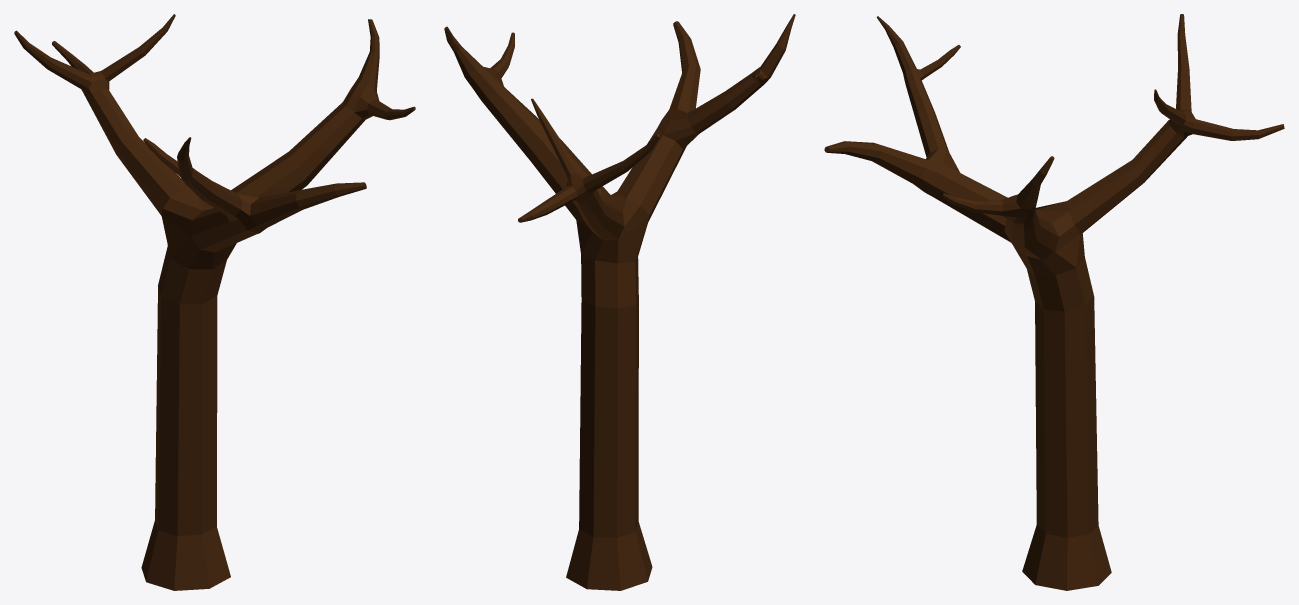
File: Tree02.fbx
The picture shows the model from 3 angles, left to right: view 1: azimuth 30°, elevation 25°; view 2: azimuth 150°, elevation 25°; view 3: azimuth 270°, elevation 25°; orthographic projection. The views are drawn at different scales.
Parts seen in each view (by area): view 1: pCylinder69; view 2: pCylinder69; view 3: pCylinder69.
Boxes of the visible parts, x1=… form: pCylinder69: x1=14, y1=14, x2=415, y2=590; pCylinder69: x1=444, y1=14, x2=795, y2=590; pCylinder69: x1=824, y1=14, x2=1284, y2=590.
Size of the model in its own units: 2.7 by 4.69 by 3.82.
